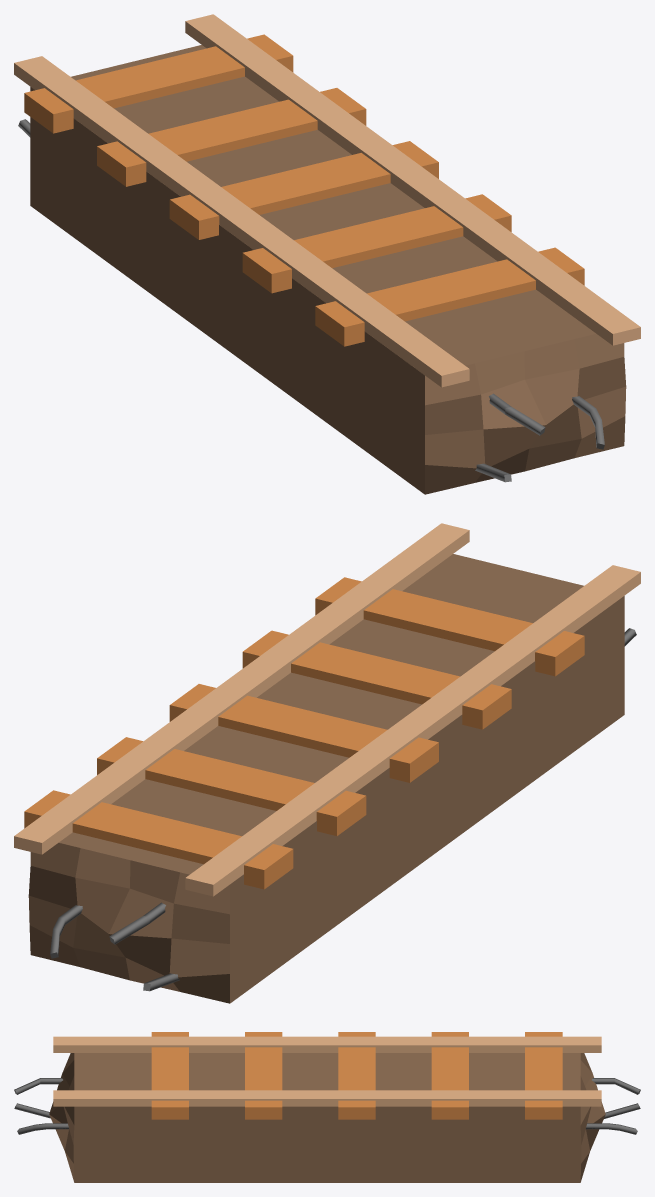
The model's file is BrokenTrack 3.fbx.
The picture shows the model from 3 angles, top to bottom: view 1: azimuth 30°, elevation 25°; view 2: azimuth 150°, elevation 25°; view 3: azimuth 270°, elevation 25°; orthographic projection. The views are drawn at different scales.
Visible parts, largest first — view 1: Broken Track 3, TrackPlys1.002, Tracks1.002, MetalBars.002; view 2: Broken Track 3, TrackPlys1.002, Tracks1.002, MetalBars.002; view 3: Broken Track 3, Tracks1.002, TrackPlys1.002, MetalBars.002.
Boxes of the visible parts, bbox=[...] form: Broken Track 3: bbox=[30, 45, 626, 494]; TrackPlys1.002: bbox=[24, 34, 584, 346]; Tracks1.002: bbox=[14, 14, 640, 387]; MetalBars.002: bbox=[18, 119, 604, 482]; Broken Track 3: bbox=[28, 554, 624, 1003]; TrackPlys1.002: bbox=[24, 577, 584, 889]; Tracks1.002: bbox=[14, 523, 640, 896]; MetalBars.002: bbox=[50, 628, 636, 991]; Broken Track 3: bbox=[49, 1053, 605, 1182]; Tracks1.002: bbox=[53, 1036, 601, 1106]; TrackPlys1.002: bbox=[151, 1032, 562, 1119]; MetalBars.002: bbox=[14, 1078, 640, 1134].
Size of the model in its own units: 169 by 88.34 by 594.
